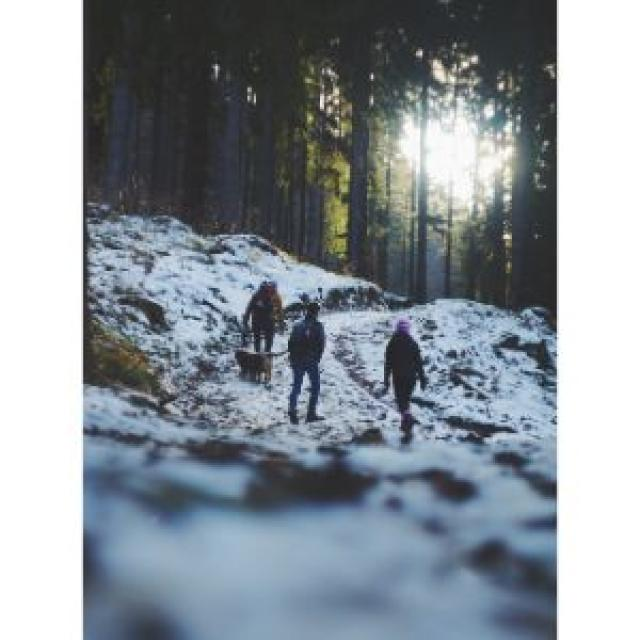nonfall: (280, 300, 346, 428), (386, 323, 428, 426), (243, 279, 284, 370)
